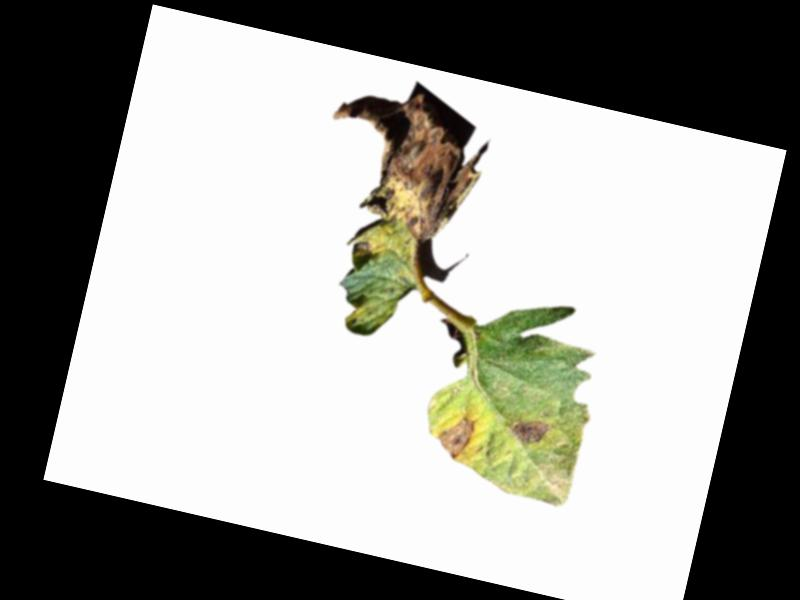Early_blight: (300, 74, 497, 280), (432, 412, 475, 461), (505, 413, 548, 449)
